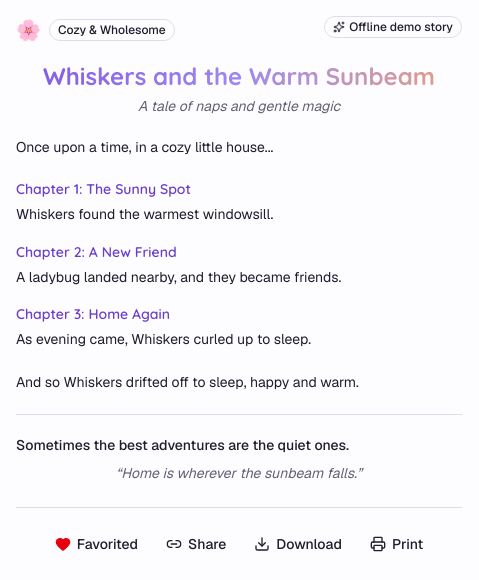
Test: StoryCard › copies a share link to the clipboard when Share is clicked
The image size is (479, 580).
Click the button "Share" at (196, 544), box [156,528,236,560]
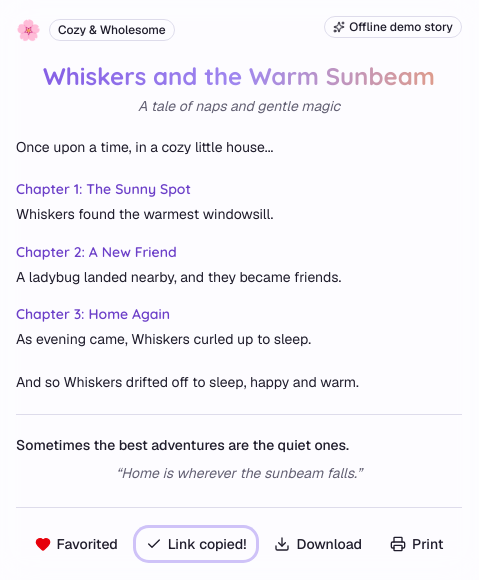
Check: the button "Link copied!" is shown, box [136,528,256,560]
